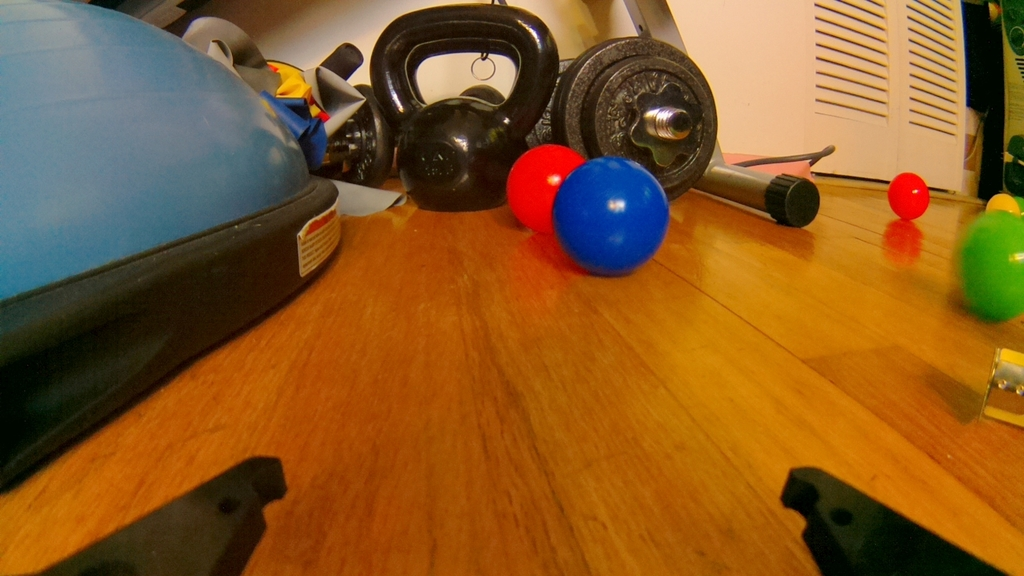ball: (888, 172, 932, 222)
